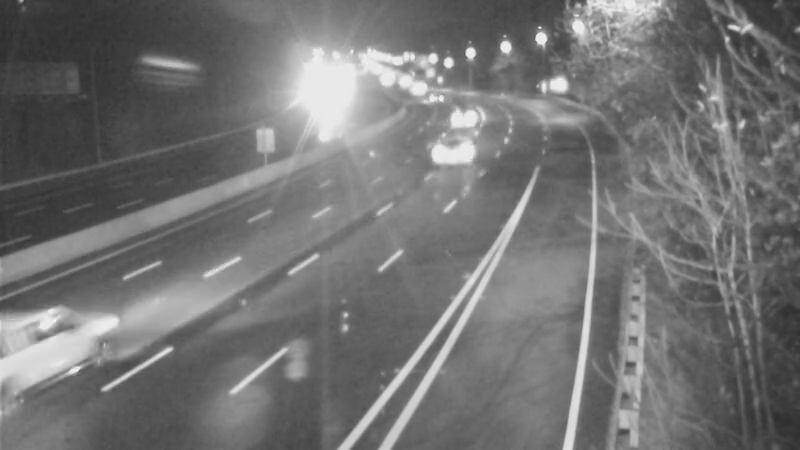vehicle: (1, 283, 111, 393), (417, 114, 497, 194), (389, 61, 439, 111), (416, 76, 466, 126), (442, 92, 492, 142), (299, 72, 349, 122)
